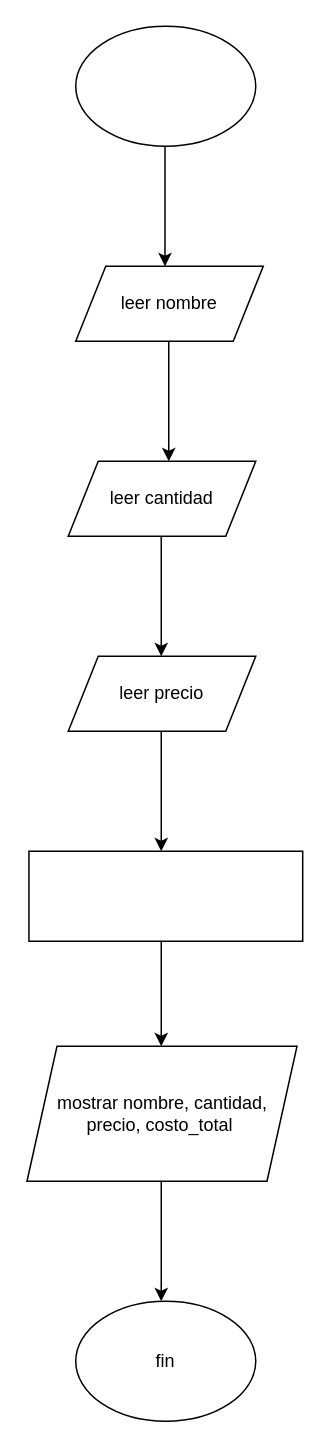
Some shapes in this 329 by 1448 pixel diagram are drawn without their labels. The shapes that lost their labels are listed below. From the top down, each one's centre as x and y in pixels, then its label:
(x=165, y=85): inicio
(x=165, y=895): Calcular COSTO_TOTAL = PRECIO × CANTIDAD
